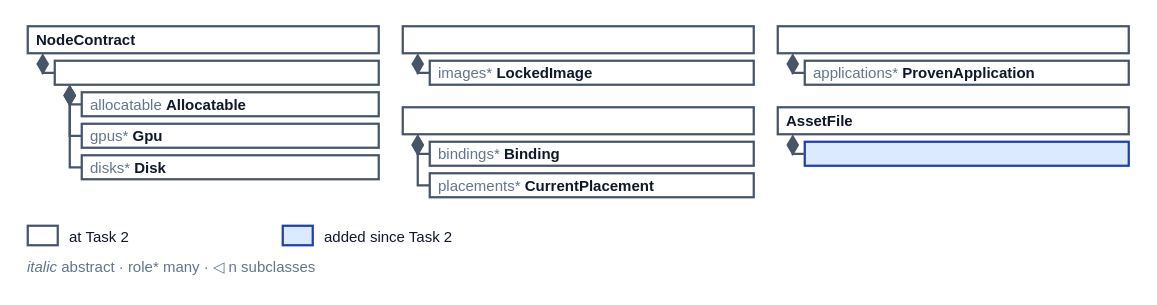
The diagram is 1157 pixels wide and 305 high, and some of its shapes have lost their labels. Here are the shapes that lost their labels. From the top down, the box of each, then its label:
(401, 24, 754, 54): ImagesLock
(776, 24, 1129, 54): MigrationProof
(53, 59, 379, 85): nodes* Node
(401, 105, 754, 135): ClusterState
(803, 140, 1129, 166): rules Datum ◁ 3
